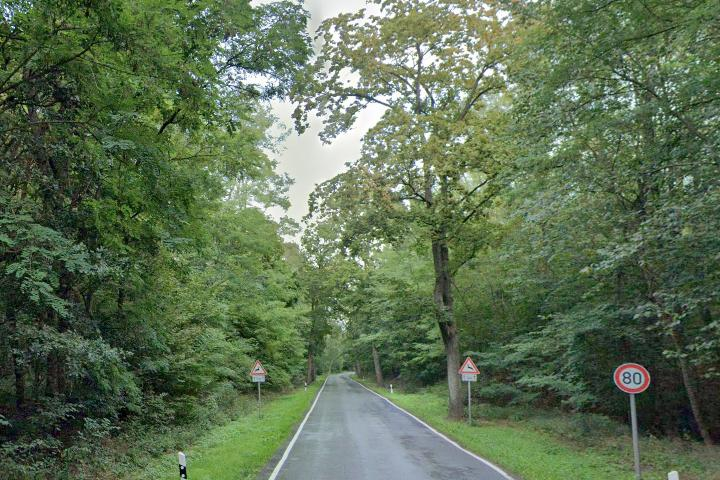traffic_sign: (613, 362, 651, 394), (458, 355, 481, 375), (250, 360, 268, 375)
